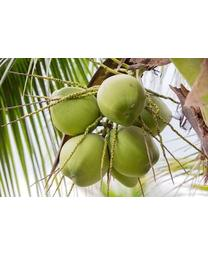coconut: (105, 123, 159, 186), (92, 71, 146, 128), (46, 86, 101, 137), (58, 135, 108, 187)
